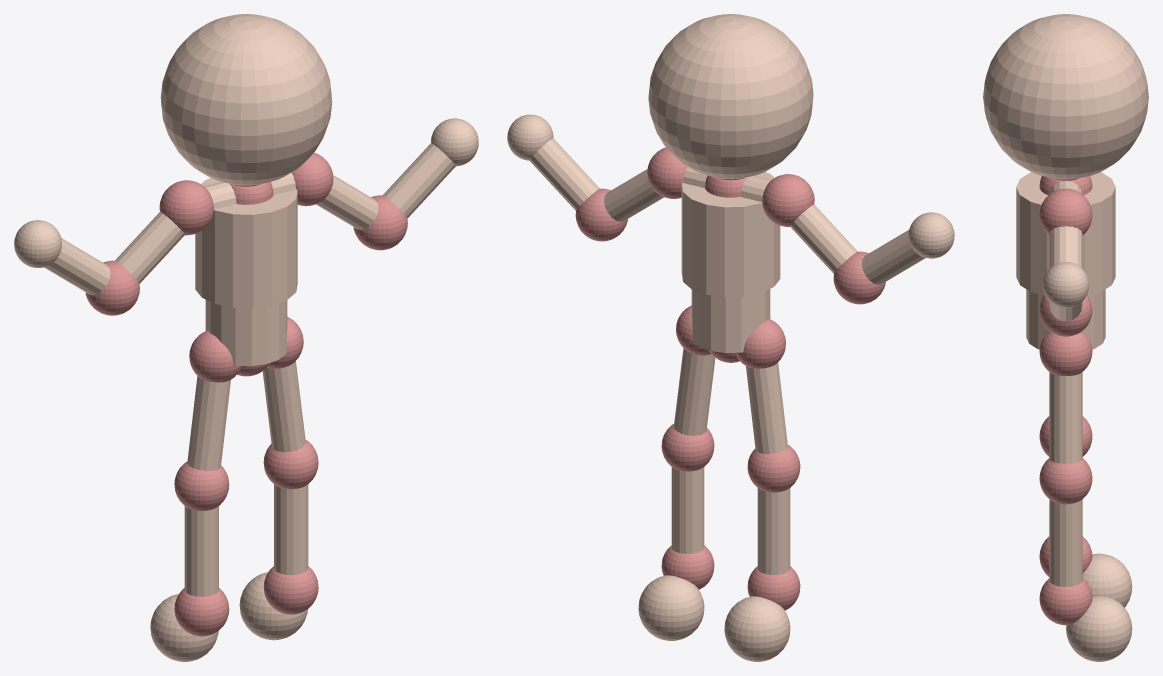
File: human.glb
3 renders of one model, left to right at view 1: azimuth 30°, elevation 25°; view 2: azimuth 150°, elevation 25°; view 3: azimuth 270°, elevation 25°, orthographic. The views are drawn at different scales.
Visible parts, largest first — view 1: Head, Chest, Hip, RightHipToKnee, RightKneeToAnkle, LeftKneeToAnkle, LeftHipToKnee, LeftElbowToHand, RightShoulderToElbow, LeftFoot, RightFoot, RightShoulder (+14 smaller); view 2: Head, Chest, Hip, RightFoot, LeftFoot, RightHipToKnee, LeftKneeToAnkle, RightKneeToAnkle, LeftHipToKnee, LeftElbowToHand, RightShoulderToElbow, RightShoulder (+14 smaller); view 3: Head, Chest, LeftFoot, LeftHipToKnee, LeftKneeToAnkle, LeftKnee, LeftHip, LeftShoulder, Hip, LeftAnkle, RightFoot, LeftHand (+6 smaller).
Part boxes in pixels (box(x1,y1,x2,y2)): Head: box(160, 14, 332, 185); Chest: box(195, 178, 297, 308); Hip: box(205, 300, 287, 366); RightHipToKnee: box(187, 376, 230, 471); RightKneeToAnkle: box(184, 506, 218, 596); LeftKneeToAnkle: box(274, 484, 308, 575); LeftHipToKnee: box(262, 361, 305, 452); LeftElbowToHand: box(383, 143, 455, 218); RightShoulderToElbow: box(115, 212, 184, 283); LeftFoot: box(239, 572, 307, 640); RightFoot: box(150, 594, 218, 661); RightShoulder: box(159, 180, 213, 235); Head: box(648, 14, 813, 179); Chest: box(681, 172, 780, 297); Hip: box(691, 289, 770, 352); RightFoot: box(724, 596, 790, 661); LeftFoot: box(638, 575, 704, 640); RightHipToKnee: box(746, 362, 787, 453); LeftKneeToAnkle: box(671, 467, 704, 554); RightKneeToAnkle: box(757, 488, 790, 574); LeftHipToKnee: box(674, 348, 715, 435); LeftElbowToHand: box(529, 138, 599, 210); RightShoulderToElbow: box(790, 204, 857, 273); RightShoulder: box(762, 174, 814, 226); Head: box(983, 14, 1148, 179); Chest: box(1016, 172, 1115, 295); LeftFoot: box(1066, 595, 1132, 661); LeftHipToKnee: box(1049, 372, 1082, 463); LeftKneeToAnkle: box(1049, 499, 1082, 586); LeftKnee: box(1039, 458, 1092, 504); LeftHip: box(1039, 333, 1092, 375); LeftShoulder: box(1039, 188, 1092, 234); Hip: box(1026, 289, 1105, 349); LeftAnkle: box(1039, 578, 1092, 625); RightFoot: box(1082, 553, 1132, 607); LeftHand: box(1042, 262, 1089, 308).
Size of the model in its own units: 1.54 by 2.05 by 0.5.
